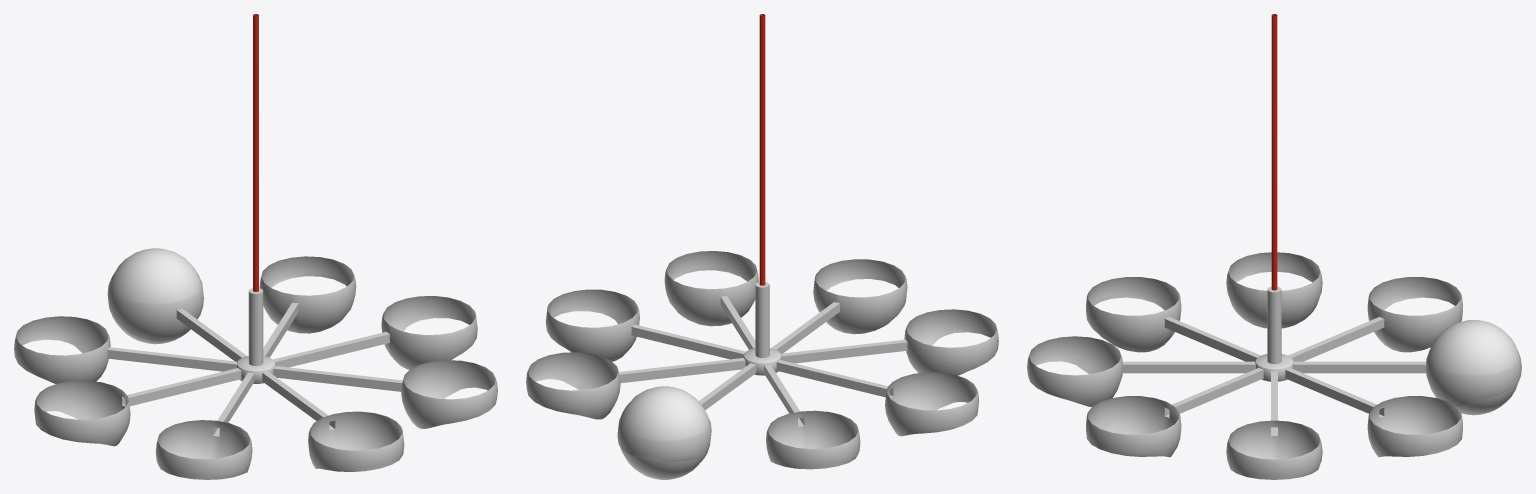
File: Chandelier.fbx
3 views of the same model, side by side, from view 1: azimuth 30°, elevation 25°; view 2: azimuth 150°, elevation 25°; view 3: azimuth 270°, elevation 25° (orthographic). The views are drawn at different scales.
Visible parts, largest first — view 1: Structure, light; view 2: Structure, light; view 3: Structure, light.
Boxes of the visible parts, x1,y1,x2,y2 form: Structure: (14, 14, 497, 479); light: (109, 248, 201, 344); Structure: (526, 14, 998, 469); light: (619, 386, 709, 479); Structure: (1027, 14, 1521, 479); light: (1428, 320, 1519, 415).
Bounding box in the file's own units: 103 × 91.18 × 103.
